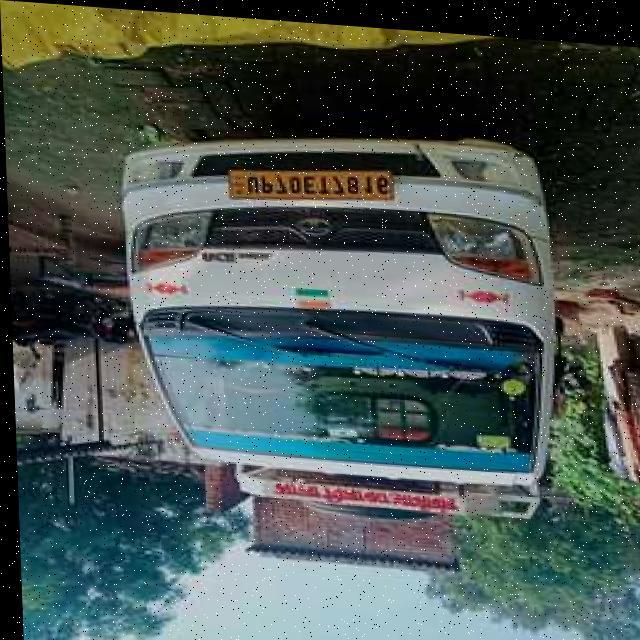plate: (222, 151, 398, 205)
